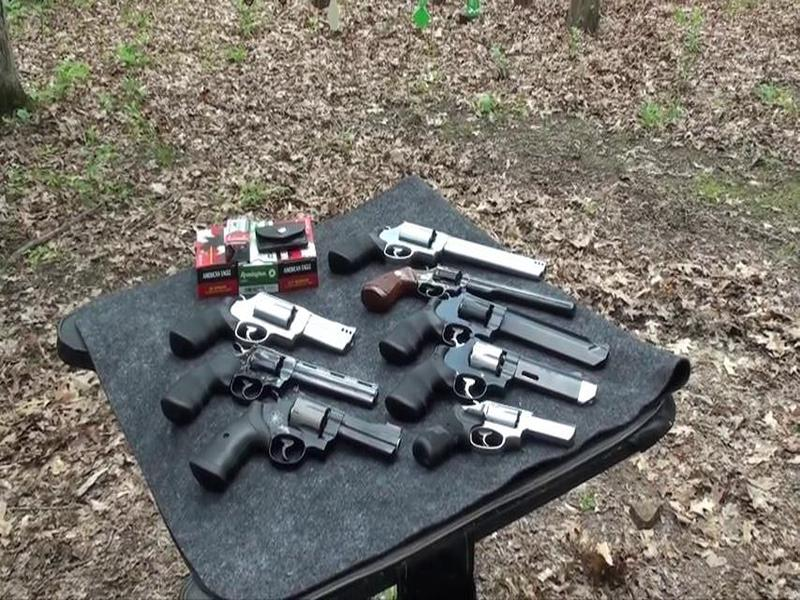Revolver: (140, 272, 373, 370), (410, 385, 596, 484)
